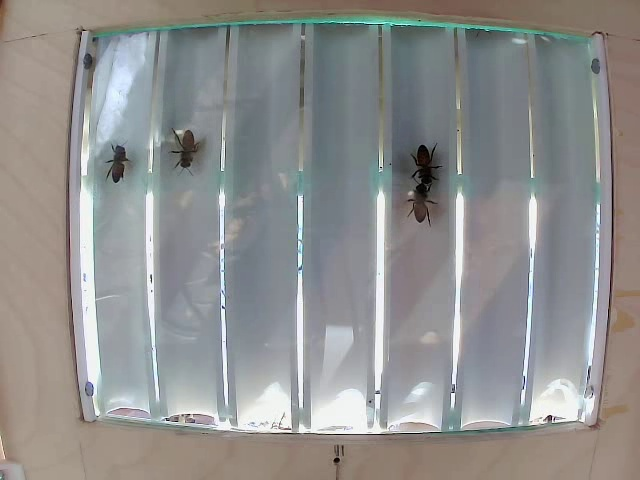bee: (172, 128, 211, 184), (98, 142, 134, 191), (402, 190, 435, 236), (409, 148, 441, 190)
